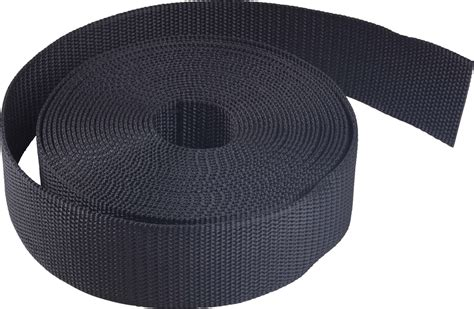nylon: (1, 1, 474, 309)
